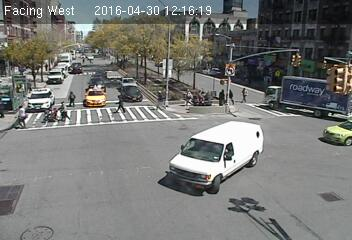neg: (233, 193, 257, 224), (199, 168, 221, 197), (218, 139, 238, 166), (261, 84, 277, 106), (314, 91, 328, 109), (313, 61, 326, 79), (287, 69, 298, 84)
pos: (149, 88, 170, 117), (12, 102, 31, 129), (112, 93, 130, 117), (236, 85, 250, 103), (65, 88, 79, 106)
